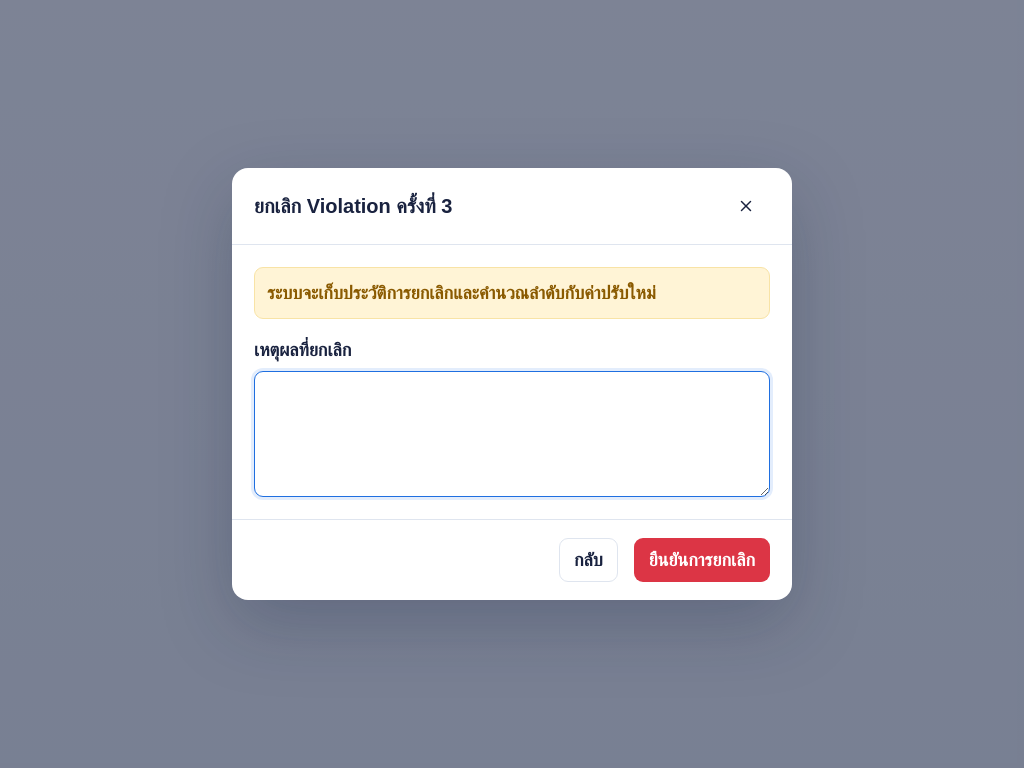
CancelViolationModal › translates concurrent modification and keeps the modal open
The image size is (1024, 768).
Type "บันทึกผิดบ้าน" into the text box labelled "เหตุผลที่ยกเลิก".
click(512, 434); type("บันทึกผิดบ้าน")  # box [254,371,770,497]
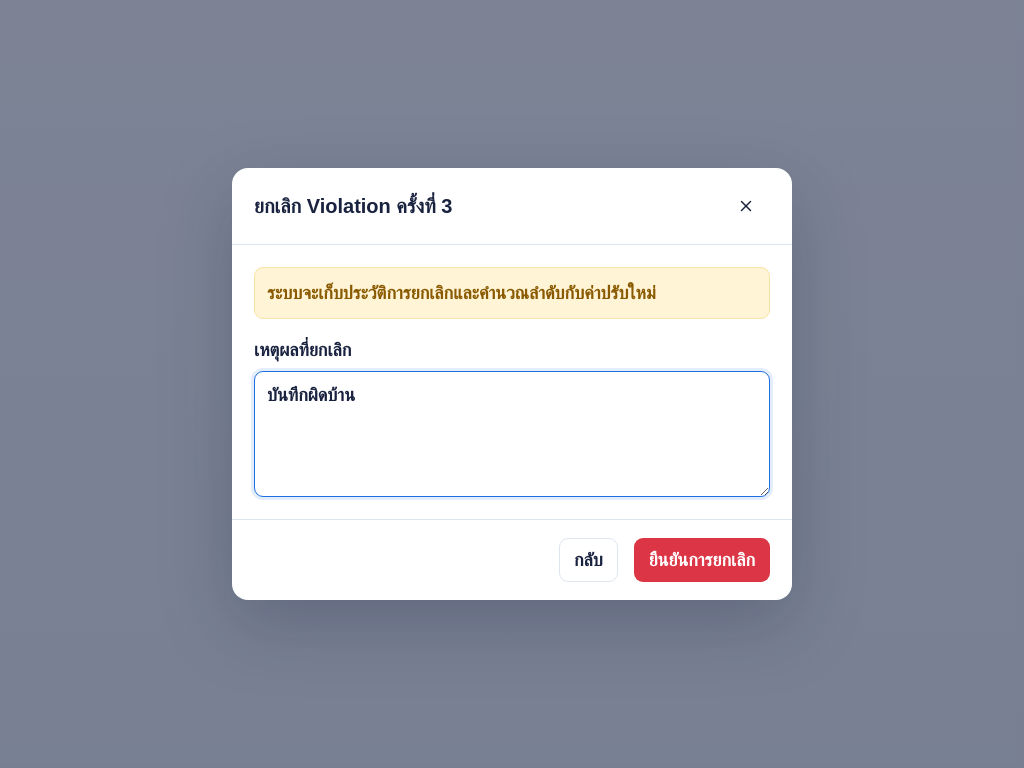
Click the button "ยืนยันการยกเลิก".
click(702, 560)  # box [634,538,770,582]
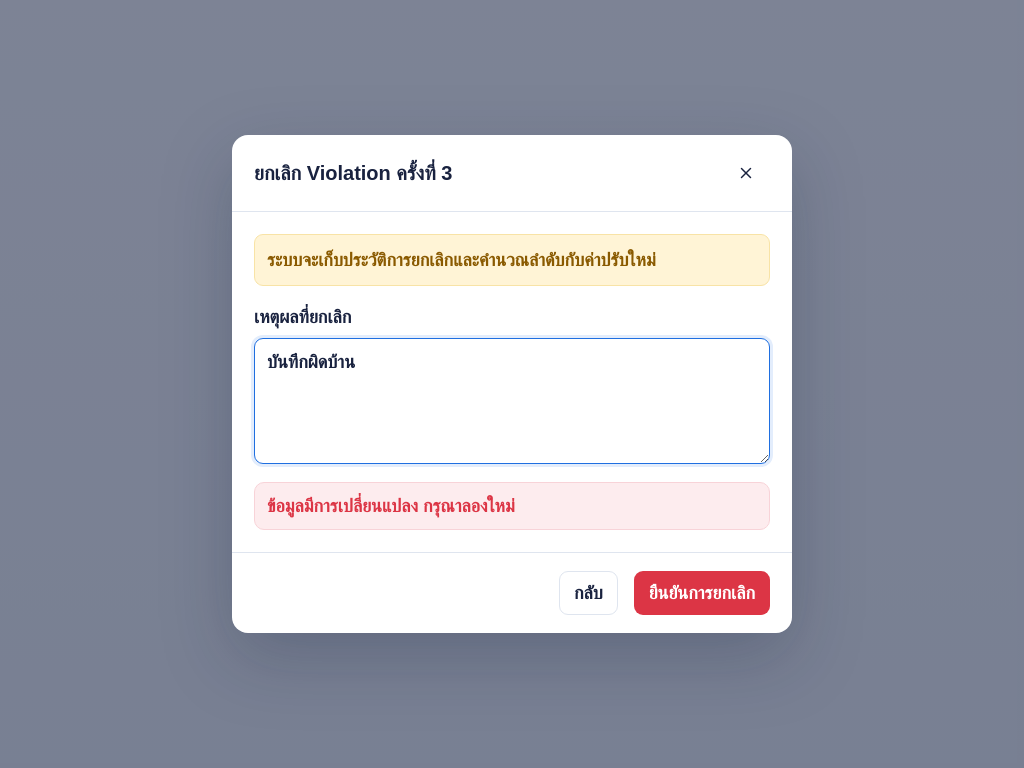
Expected: the dialog is shown, [232,135,792,633]
Now the text "ข้อมูลมีการเปลี่ยนแปลง กรุณาลองใหม่" is shown, box [254,482,770,530]
